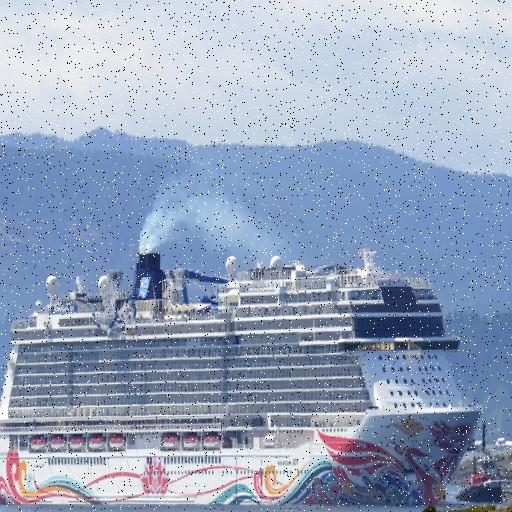cruises: (1, 232, 486, 512)
